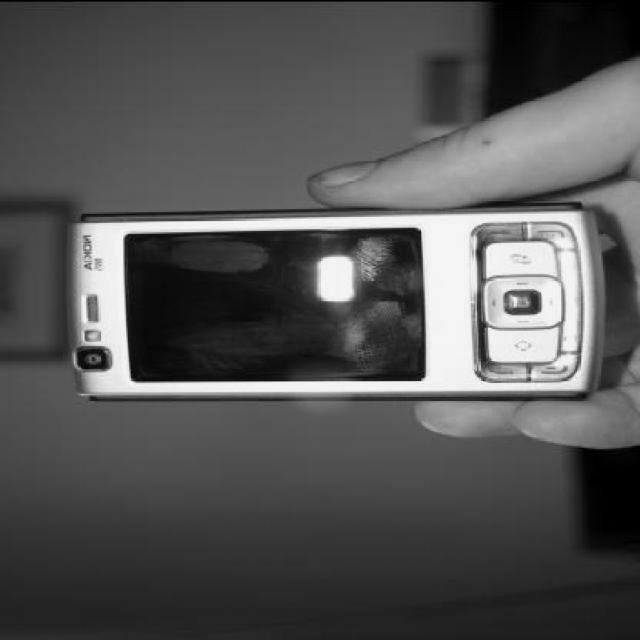fake: (60, 210, 605, 398)
